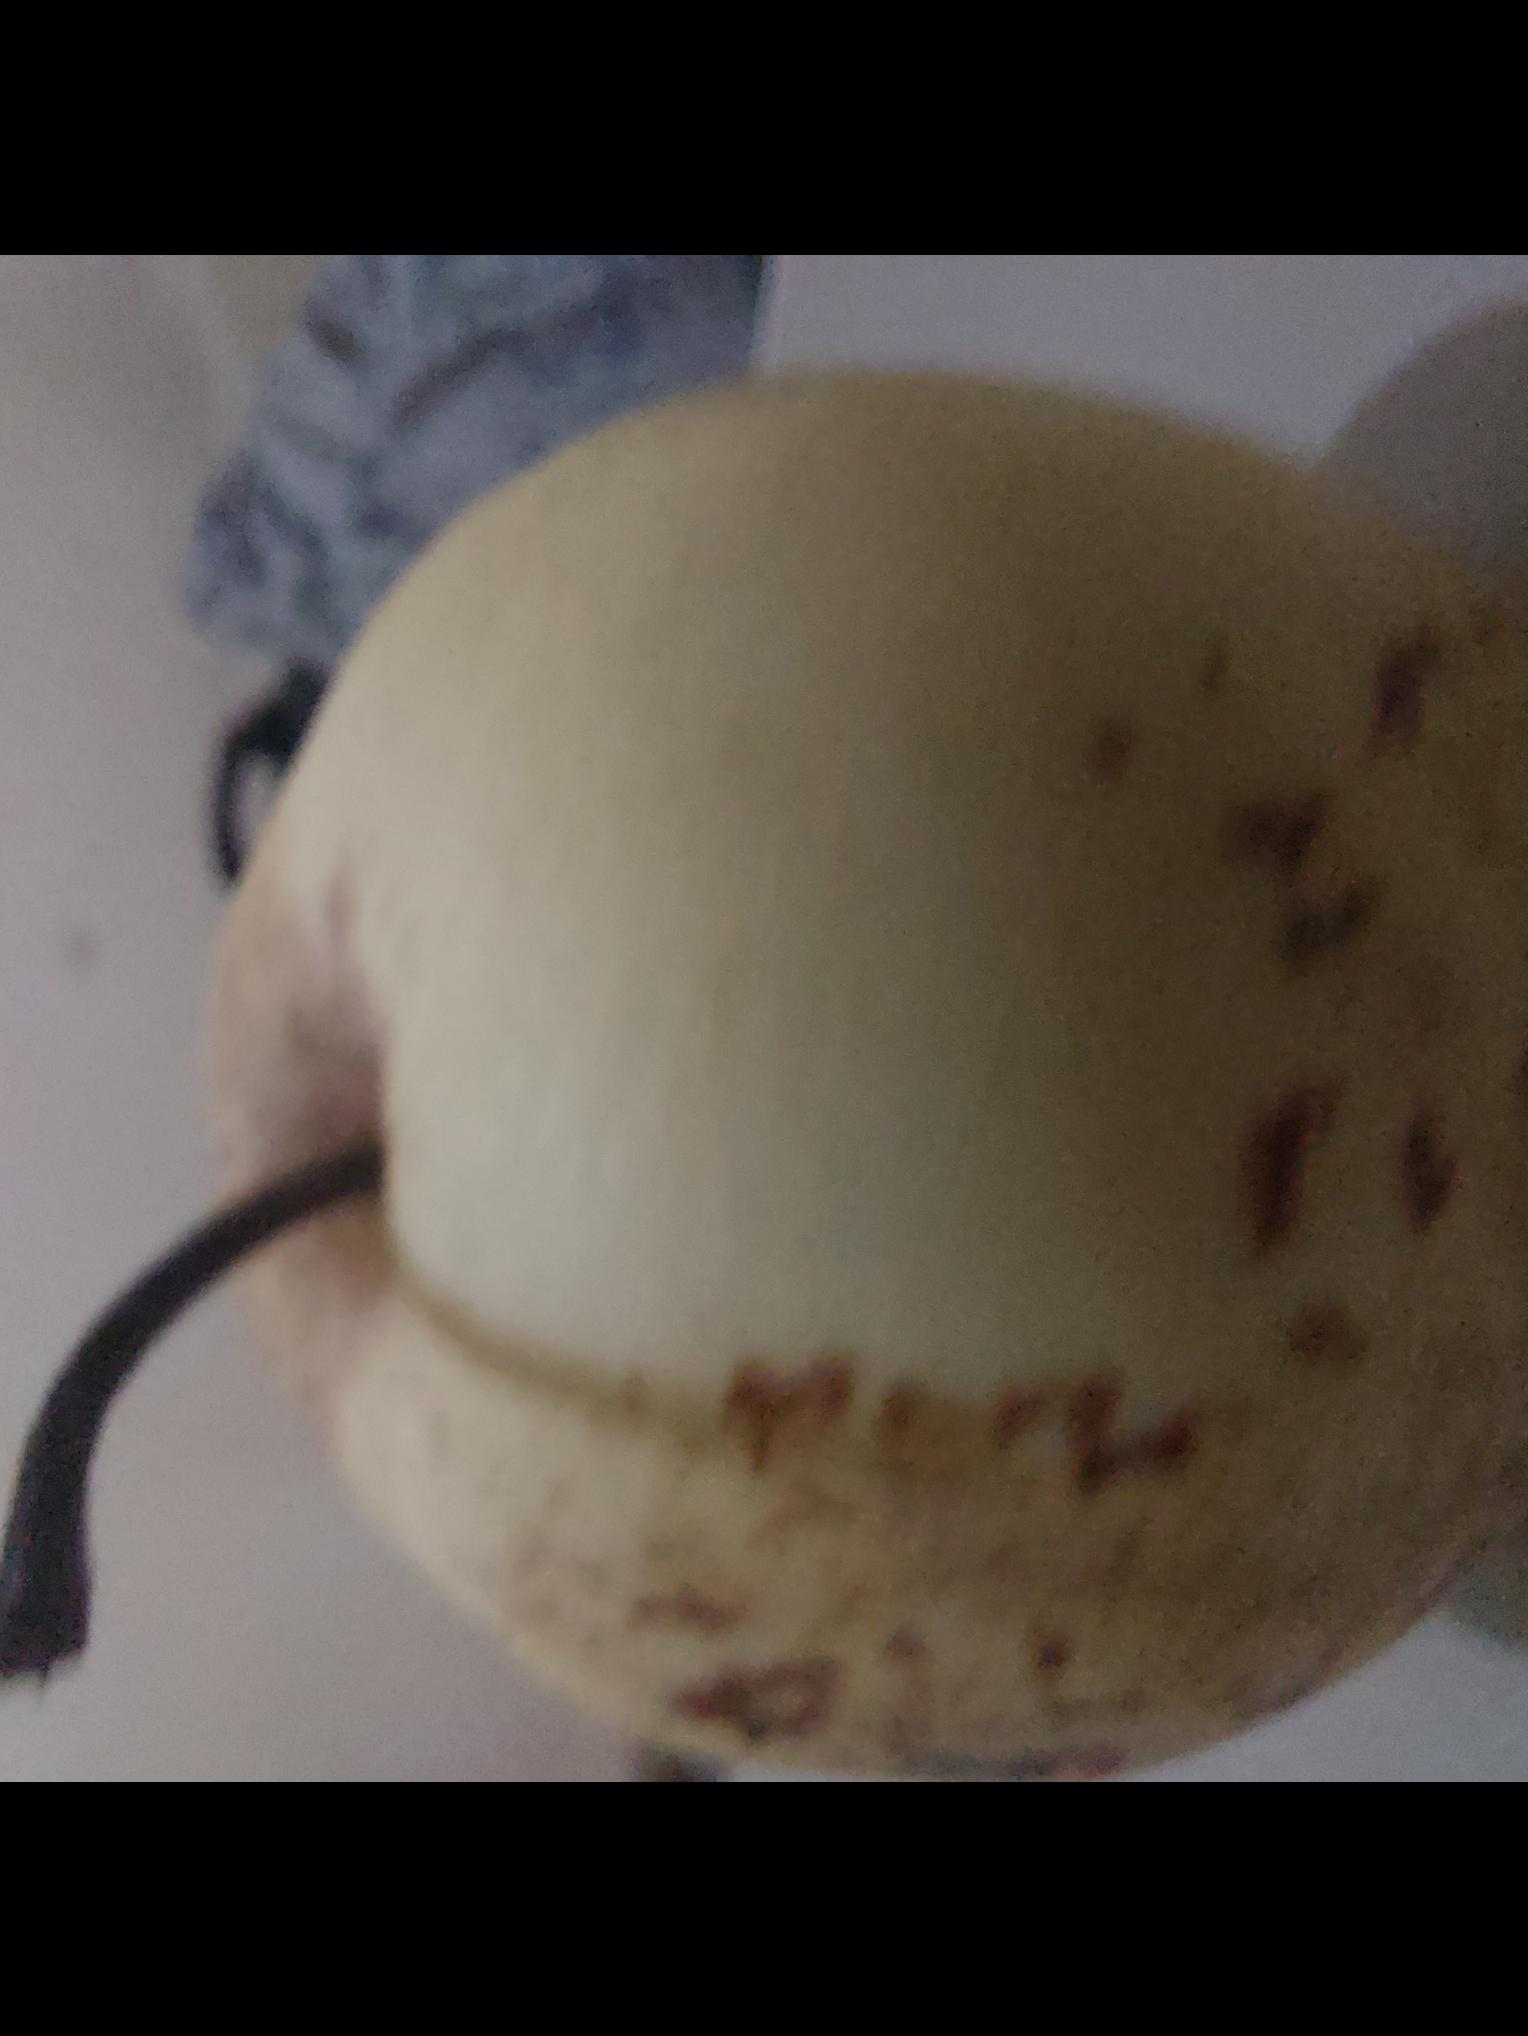Bad Pear: (189, 345, 1528, 1783)
